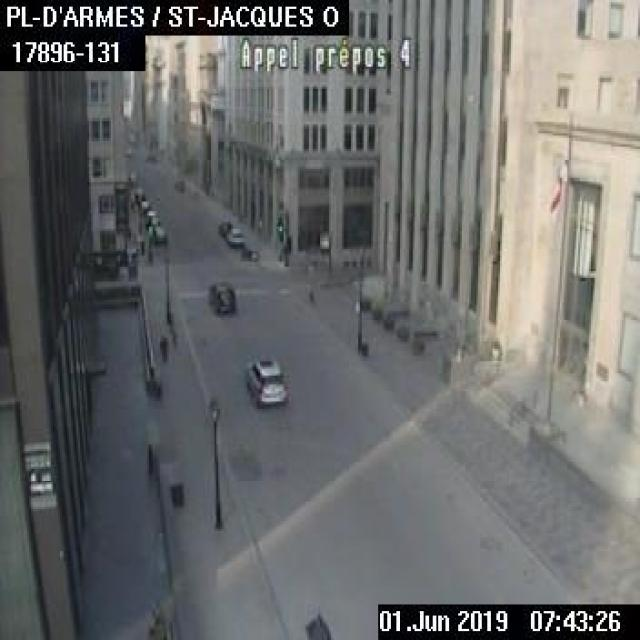vehicle: (242, 354, 287, 404), (207, 281, 235, 312), (146, 217, 166, 243), (224, 226, 243, 246), (240, 243, 258, 258), (217, 218, 230, 234)
